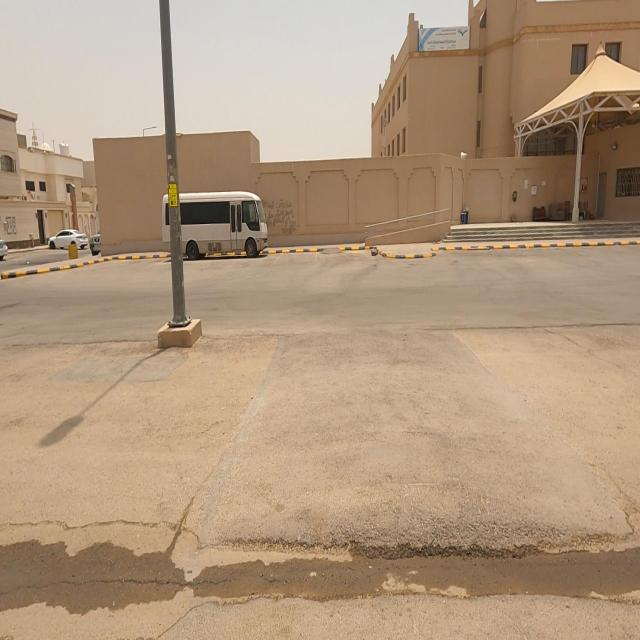Graffiti: (261, 198, 298, 237)
